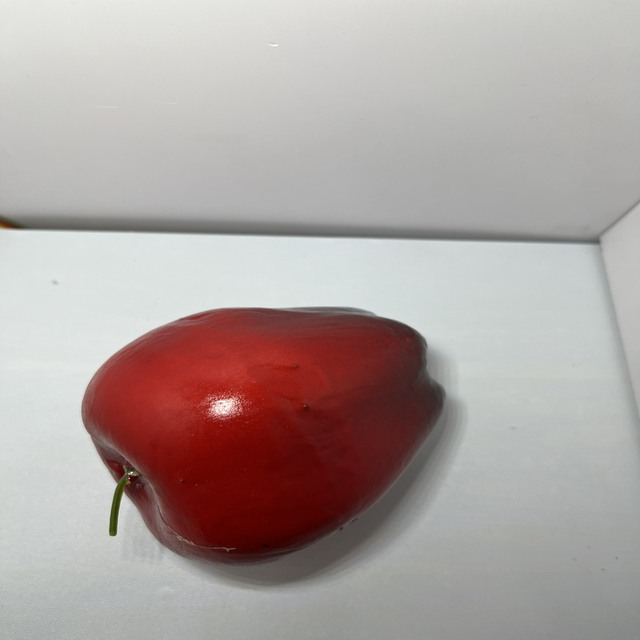Tao: (54, 213, 494, 621)
